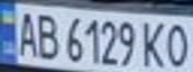1: (81, 15, 103, 64)
2: (100, 16, 121, 66)
6: (60, 12, 84, 63)
9: (115, 17, 139, 68)
A: (12, 7, 39, 58)
B: (33, 9, 60, 61)
K: (139, 18, 169, 69)
O: (163, 19, 193, 69)
